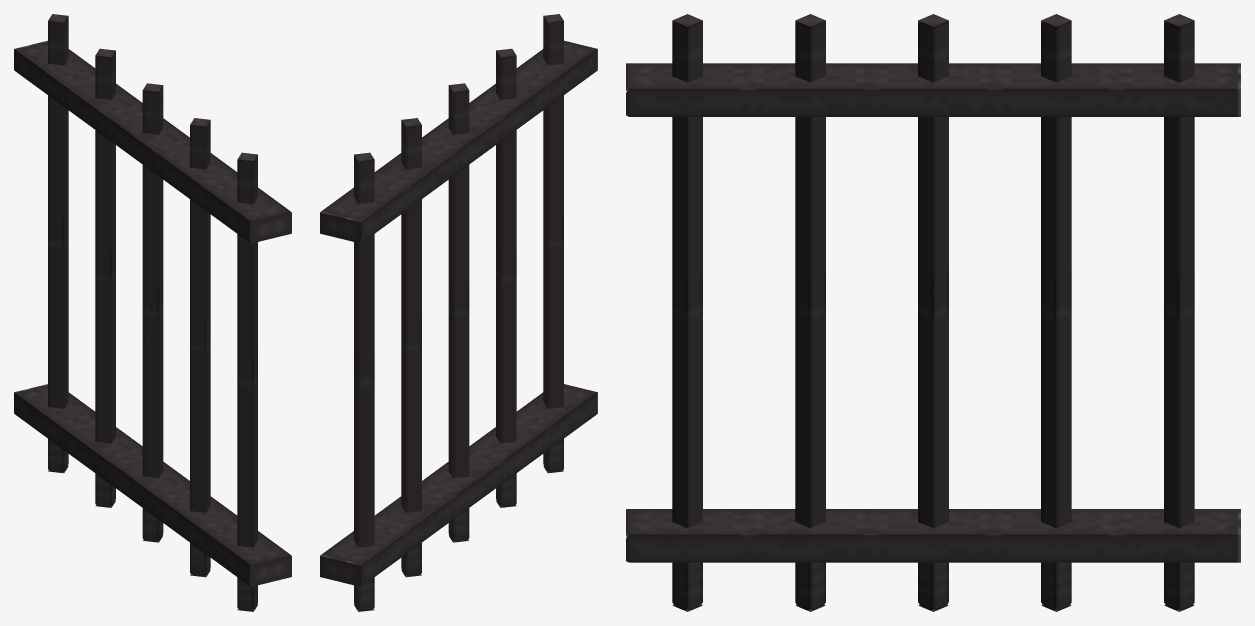
File: Gate_Bars.fbx
The picture shows the model from 3 angles, left to right: view 1: azimuth 30°, elevation 25°; view 2: azimuth 150°, elevation 25°; view 3: azimuth 270°, elevation 25°; orthographic projection. The views are drawn at different scales.
Parts seen in each view (by area): view 1: Gate_Bars; view 2: Gate_Bars; view 3: Gate_Bars.
Boxes of the visible parts, left/top/right/bottom form: Gate_Bars: left=14, top=14, right=291, bottom=611; Gate_Bars: left=320, top=14, right=597, bottom=611; Gate_Bars: left=626, top=14, right=1240, bottom=611.
Size of the model in its own units: 50 by 525 by 500.
Materials: 1 (1 with a texture image).
